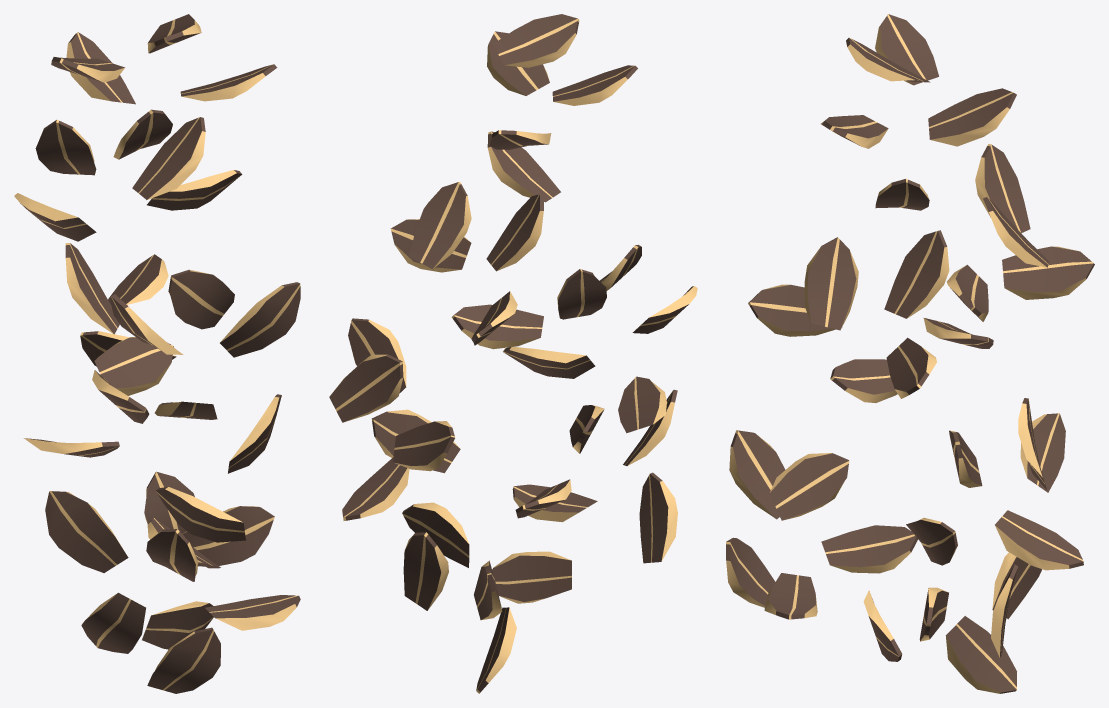
File: SunflowerSeeds.fbx
The picture shows the model from 3 angles, left to right: view 1: azimuth 30°, elevation 25°; view 2: azimuth 150°, elevation 25°; view 3: azimuth 270°, elevation 25°; orthographic projection. The views are drawn at different scales.
Parts seen in each view (by area): view 1: SunflowerPetals2.004, SunflowerPetals2.006, SunflowerPetals2.003, SunflowerPetals2.001, SunflowerPetals2.005, SunflowerPetals2.002; view 2: SunflowerPetals2.003, SunflowerPetals2.004, SunflowerPetals2.001, SunflowerPetals2.005, SunflowerPetals2.002, SunflowerPetals2.006; view 3: SunflowerPetals2.006, SunflowerPetals2.002, SunflowerPetals2.001, SunflowerPetals2.005, SunflowerPetals2.003, SunflowerPetals2.004.
Boxes of the visible parts, bbox=[...] form: SunflowerPetals2.004: bbox=[45, 471, 274, 653]; SunflowerPetals2.006: bbox=[146, 487, 300, 693]; SunflowerPetals2.003: bbox=[80, 269, 300, 473]; SunflowerPetals2.001: bbox=[14, 109, 242, 305]; SunflowerPetals2.005: bbox=[51, 14, 277, 199]; SunflowerPetals2.002: bbox=[23, 243, 183, 457]; SunflowerPetals2.003: bbox=[329, 318, 460, 520]; SunflowerPetals2.004: bbox=[402, 502, 571, 693]; SunflowerPetals2.001: bbox=[390, 182, 543, 349]; SunflowerPetals2.005: bbox=[487, 14, 637, 202]; SunflowerPetals2.002: bbox=[503, 244, 697, 433]; SunflowerPetals2.006: bbox=[512, 389, 677, 563]; SunflowerPetals2.006: bbox=[726, 430, 917, 619]; SunflowerPetals2.002: bbox=[748, 230, 949, 403]; SunflowerPetals2.001: bbox=[923, 144, 1094, 348]; SunflowerPetals2.005: bbox=[821, 14, 1016, 210]; SunflowerPetals2.003: bbox=[906, 398, 1083, 570]; SunflowerPetals2.004: bbox=[863, 552, 1041, 693].
Size of the model in its own units: 22.87 by 48.83 by 25.28.
